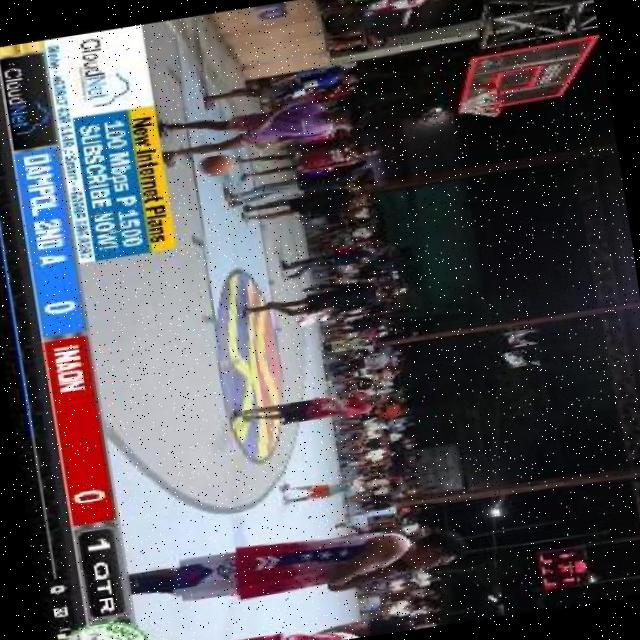ball: (190, 149, 237, 183)
hoop: (484, 85, 506, 118)
